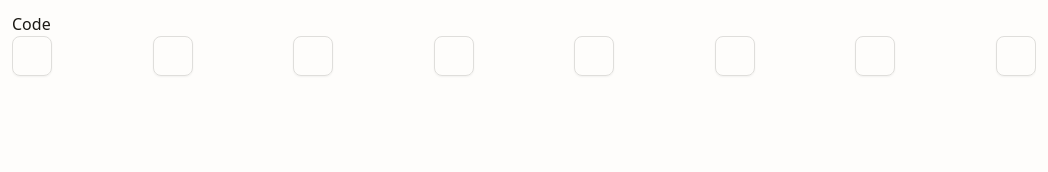
Test: OtpInput › distributes a pasted code across the boxes
Click the field named "Digit 1 of 8". click: {"x": 32, "y": 56}
box: [12,36,52,76]
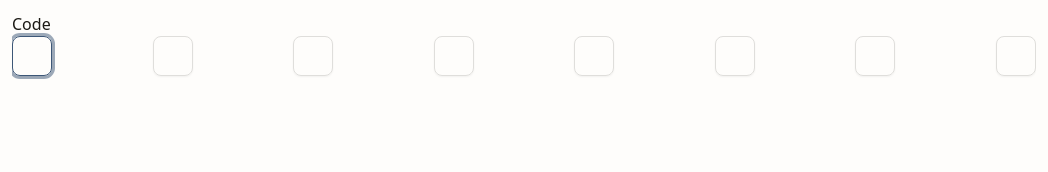
Type keys "87654321"
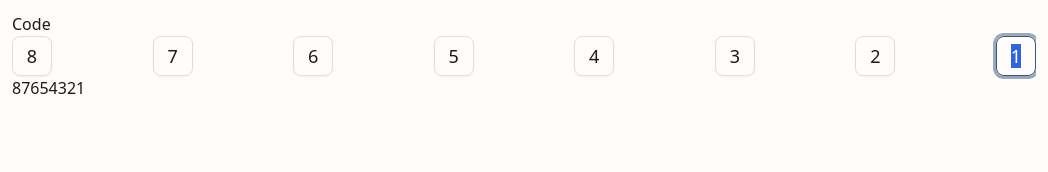
Expected: the text with test id "value" reads "87654321", [12,77,85,99]
